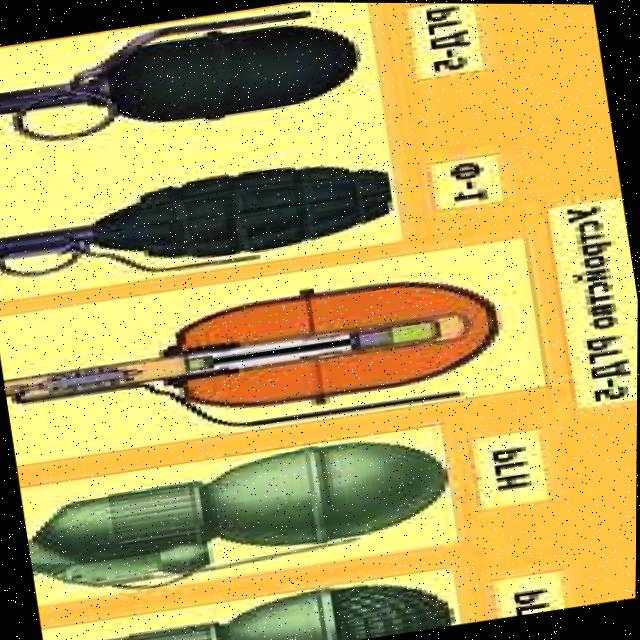grenade: (0, 257, 522, 466), (19, 425, 454, 608), (0, 147, 402, 301), (0, 0, 375, 160), (41, 564, 456, 640)
